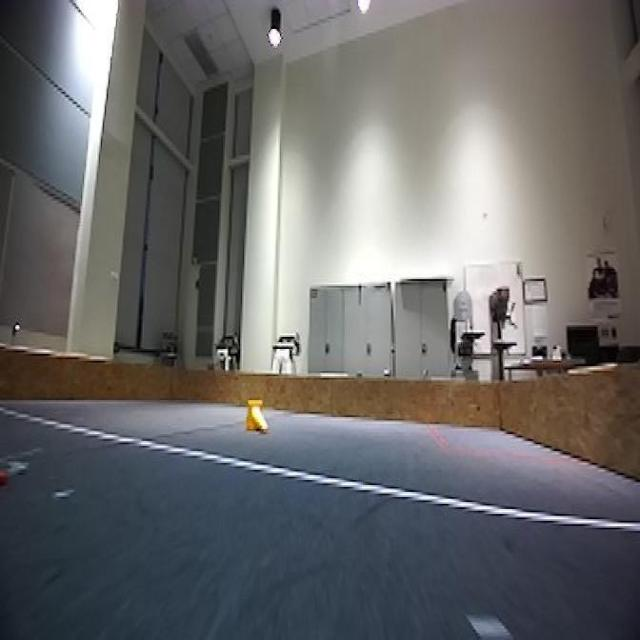frc_cone: (244, 398, 266, 434)
